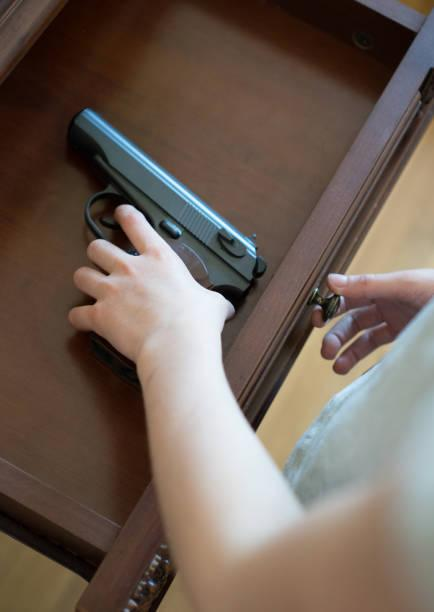weapon: (65, 102, 273, 360)
